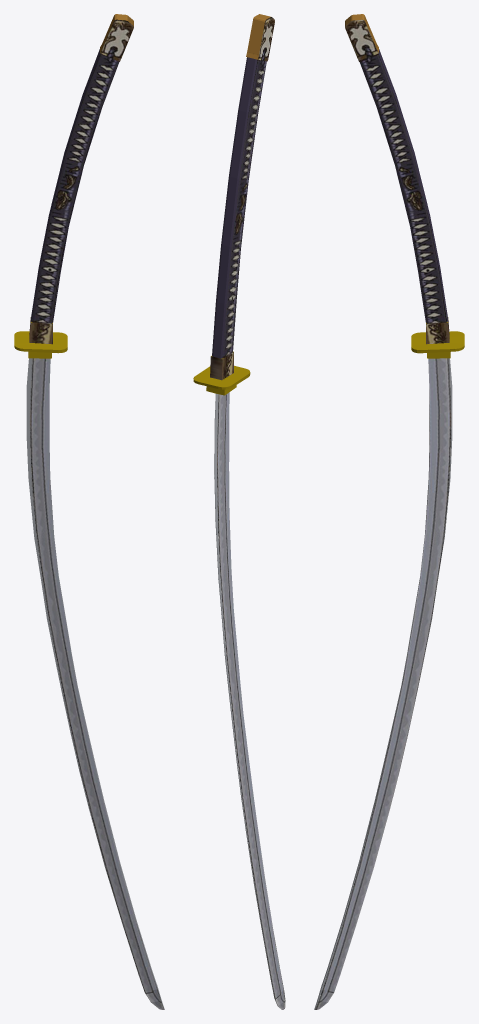
The model's file is YCOdachi.fbx.
3 views of the same model, side by side, from view 1: azimuth 90°, elevation 25°; view 2: azimuth 150°, elevation 25°; view 3: azimuth 270°, elevation 25° (orthographic).
Visible parts, largest first — view 1: Odachi; view 2: Odachi; view 3: Odachi.
Part boxes in pixels (bbox=[...]): Odachi: bbox=[14, 14, 164, 1009]; Odachi: bbox=[193, 14, 285, 1009]; Odachi: bbox=[314, 14, 464, 1009].
Bounding box in the file's own units: 0.0525 × 1.38 × 0.1891.
